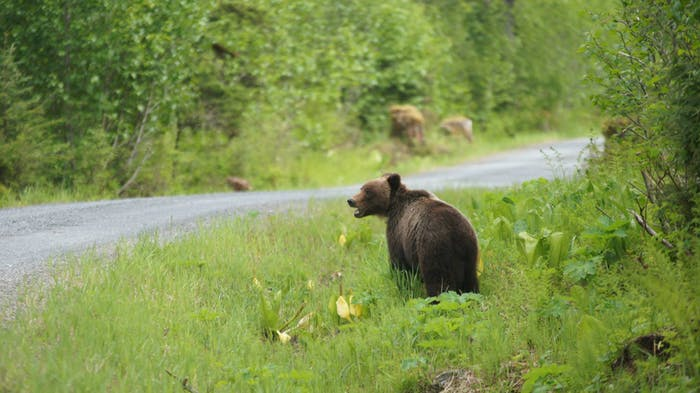bear: (341, 174, 404, 220)
